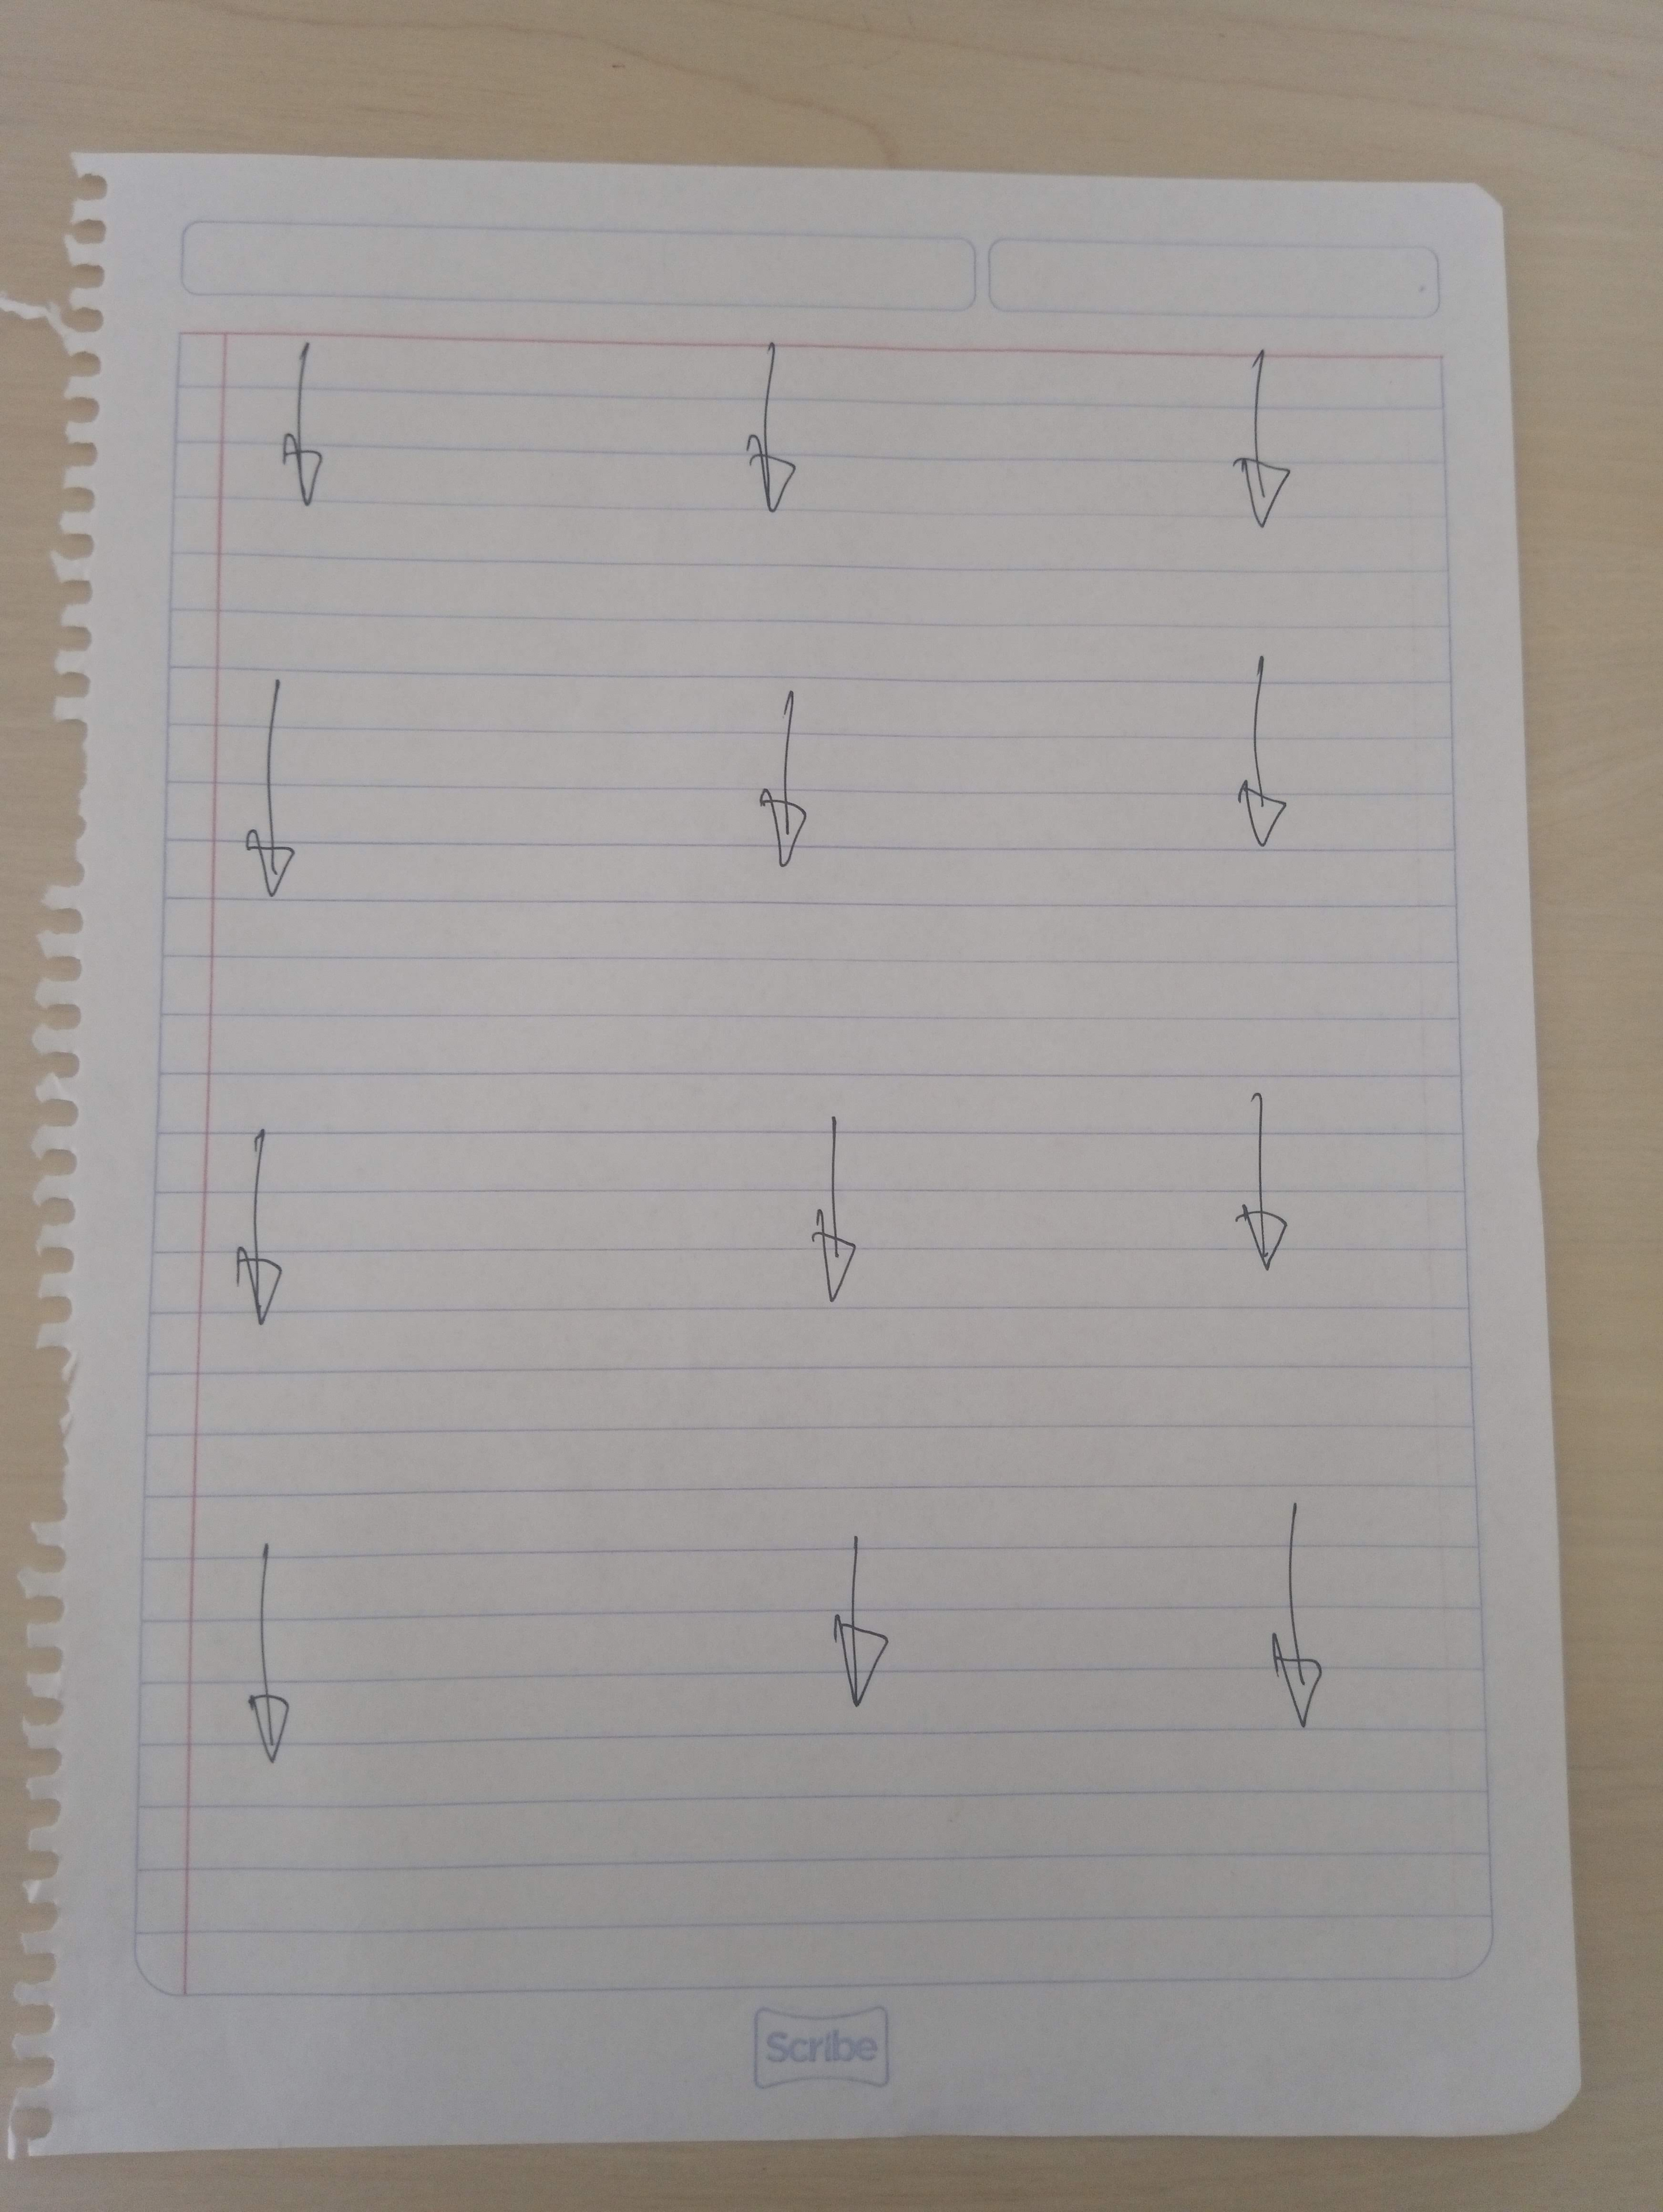arrow_line_down: (1249, 1491, 1345, 1741), (225, 1542, 325, 1781), (1225, 637, 1315, 861), (215, 1121, 306, 1337), (1219, 1068, 1315, 1271), (776, 1124, 875, 1315), (1216, 351, 1308, 548), (818, 1524, 908, 1714), (755, 681, 842, 875), (231, 674, 306, 892), (278, 318, 344, 526), (732, 344, 798, 522)
